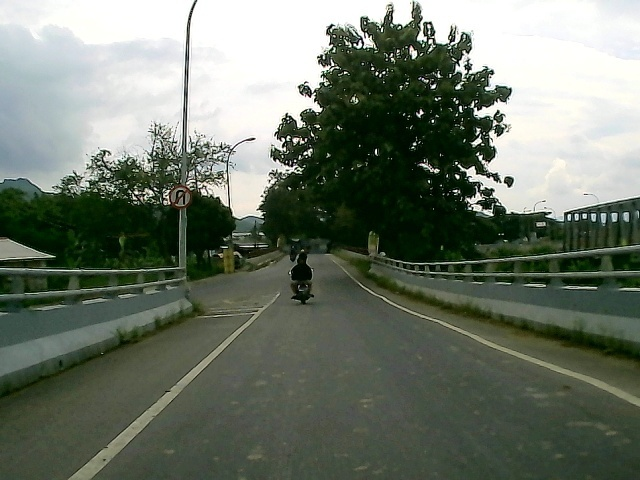Dilarang berbalik arah: (167, 185, 192, 209)
